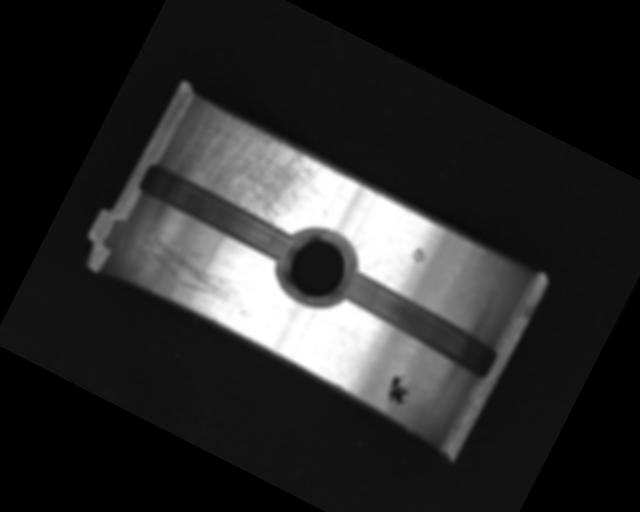blot: (381, 371, 418, 411)
bruise: (408, 243, 432, 267)
gap: (333, 268, 504, 378), (134, 159, 301, 268)
hole: (265, 218, 368, 320)
nick: (139, 230, 266, 322), (352, 223, 388, 260)
scratch: (162, 96, 351, 247)
